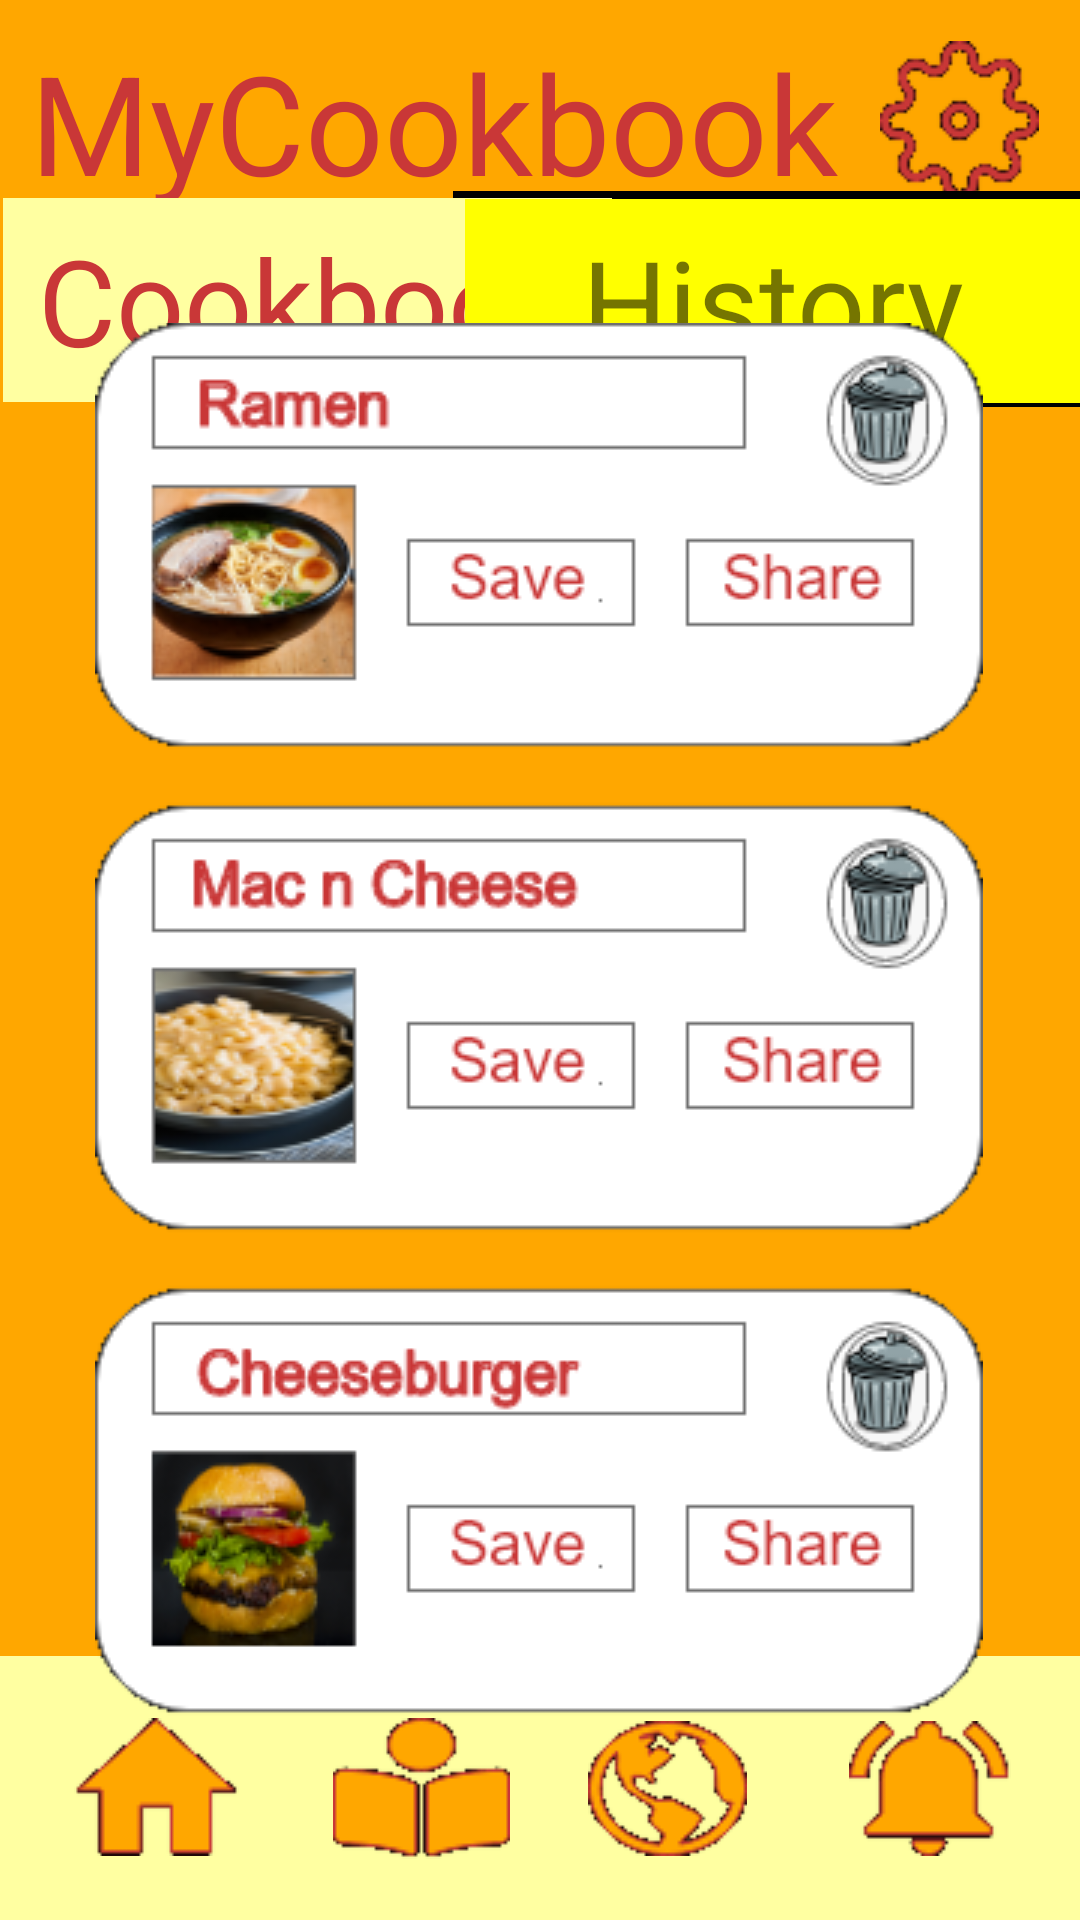

Icon click points for this 1080×1920 phone screenshot, format point (x, y):
cookbookicon: point (421, 1788)
exploreicon: point (667, 1788)
homeorange: point (156, 1786)
notification: point (930, 1788)
settings: point (959, 120)
